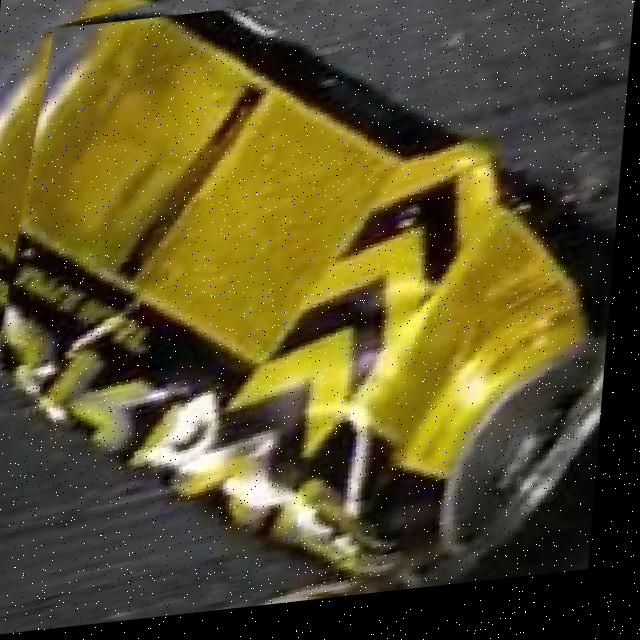litter: (0, 25, 613, 585)
